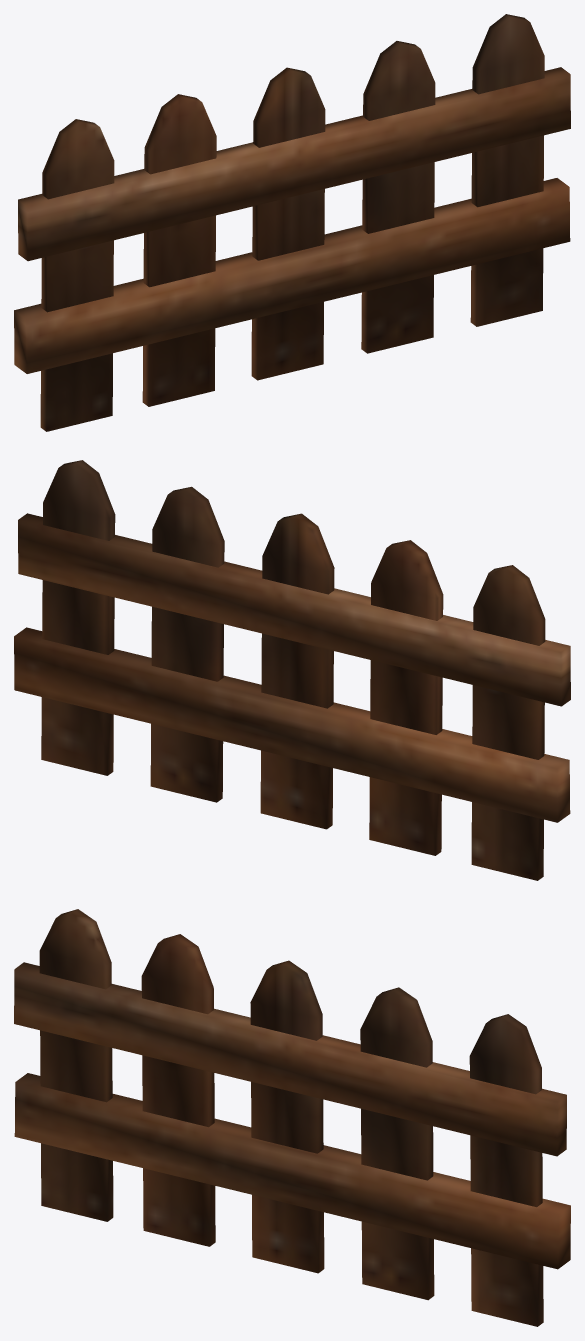
The model's file is tahta çit.fbx.
3 renders of one model, top to bottom at view 1: azimuth 30°, elevation 25°; view 2: azimuth 150°, elevation 25°; view 3: azimuth 330°, elevation 25°, orthographic.
Visible parts, largest first — view 1: Uçak.006; view 2: Uçak.006; view 3: Uçak.006.
Part boxes in pixels (<box>): Uçak.006: <box>14,14,570,431</box>; Uçak.006: <box>14,460,570,880</box>; Uçak.006: <box>14,909,570,1326</box>.
Bounding box in the file's own units: 288 × 153 × 12.67.
1 material, 1 textured.
